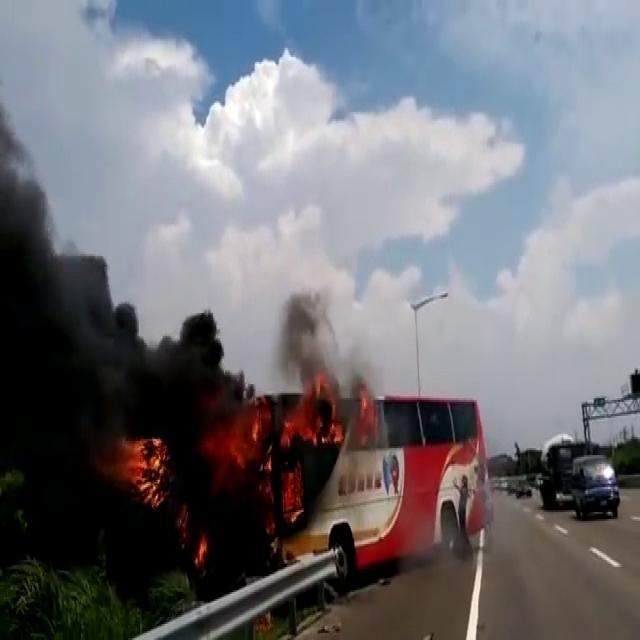Fire: (284, 361, 344, 455), (114, 431, 170, 506)
Smoke: (0, 6, 229, 536)
